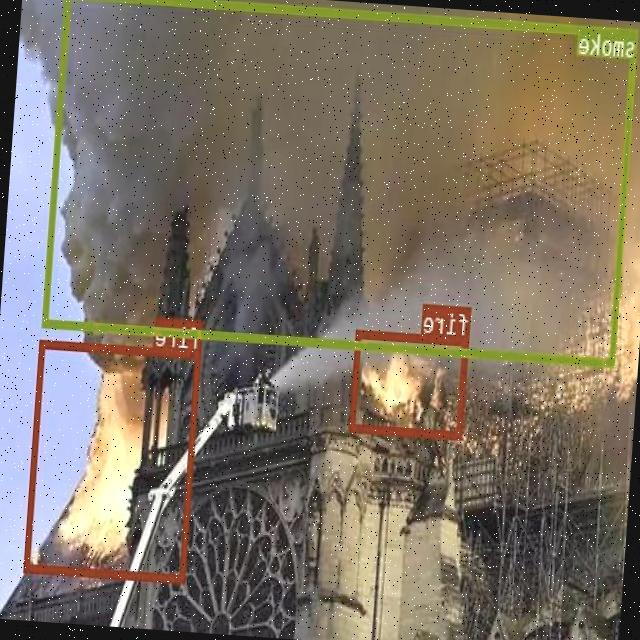fire: (25, 338, 202, 582), (351, 328, 470, 439)
smoke: (42, 0, 639, 366)
